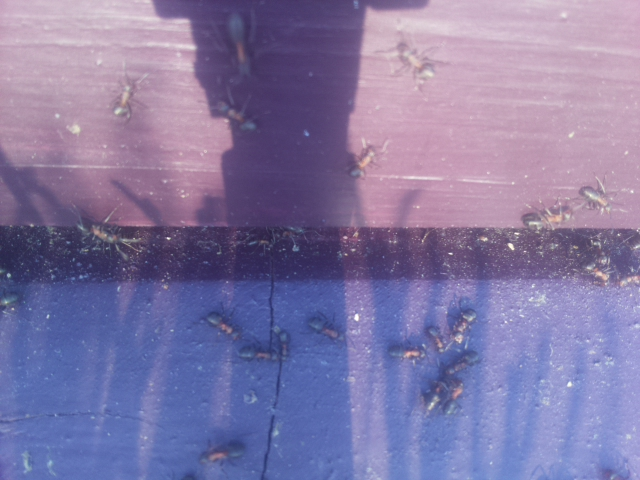ant: (105, 172, 172, 230), (210, 85, 265, 144), (103, 64, 155, 126), (66, 215, 139, 255), (221, 1, 255, 85), (389, 36, 442, 86), (297, 308, 354, 353), (518, 201, 580, 234), (193, 436, 251, 470), (341, 141, 383, 185), (199, 305, 245, 345), (445, 301, 481, 348), (238, 337, 296, 365), (442, 346, 486, 380), (575, 180, 614, 215), (266, 321, 292, 362), (385, 340, 426, 363), (442, 381, 466, 416), (582, 261, 612, 285), (430, 321, 444, 346)
